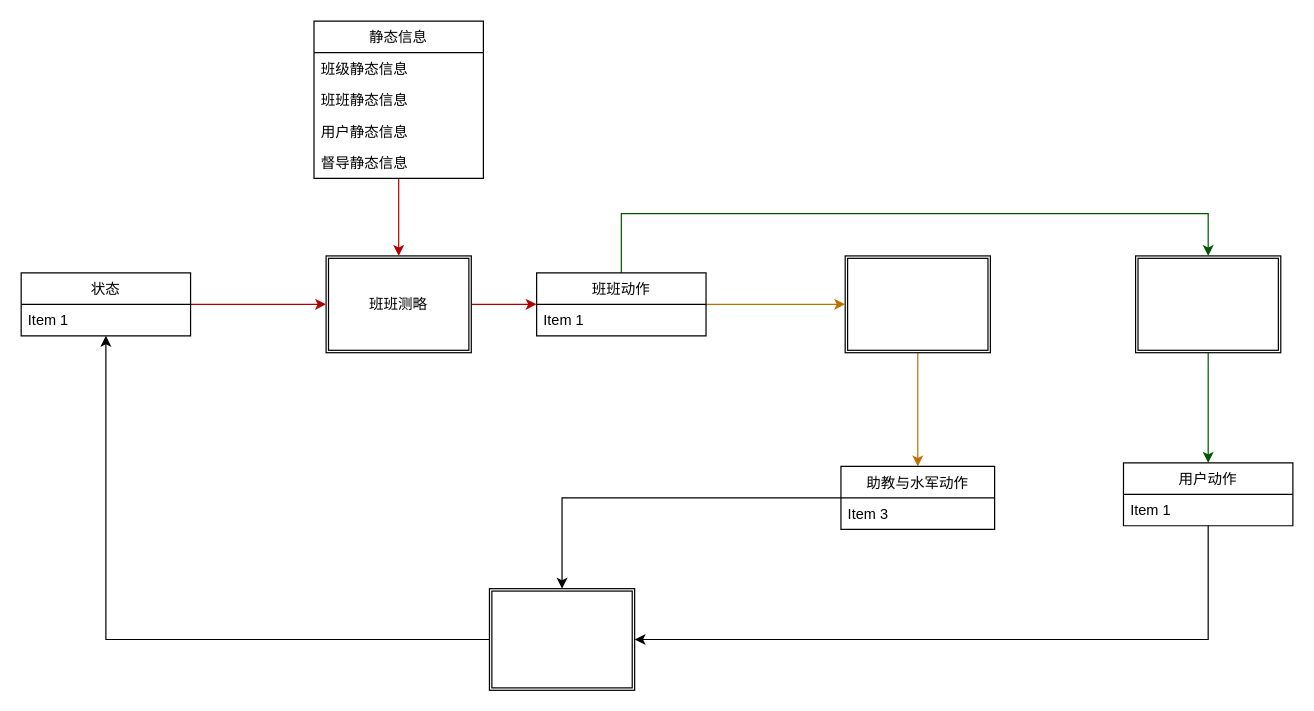
The diagram is 1314 pixels wide and 711 high, and some of its shapes have lost their labels. The shapes that lost their labels are listed below. From the top down, each one's centre as x and y in pixels, then its label:
At pixel 917 304: "助教与水军策略".
At pixel 1207 304: "用户策略".
At pixel 561 638: "转移策略".
